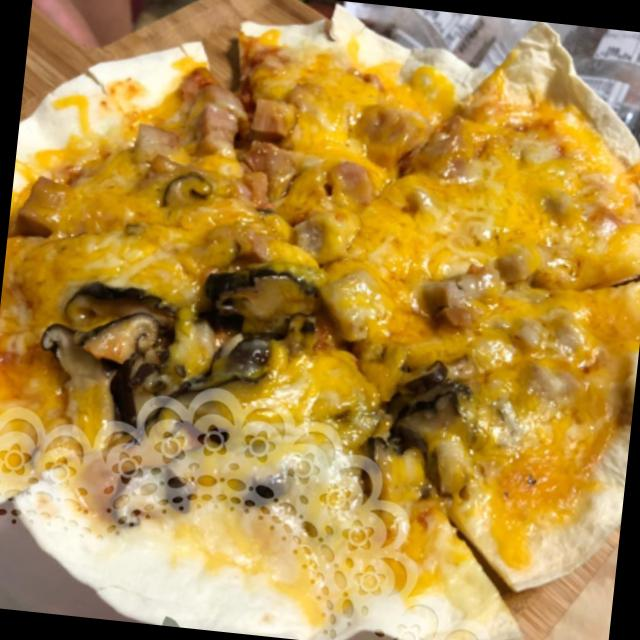mushrooms: (32, 278, 179, 450), (361, 356, 472, 484), (196, 258, 319, 344), (182, 332, 278, 402), (159, 168, 209, 215)
pizza: (0, 7, 640, 640)
